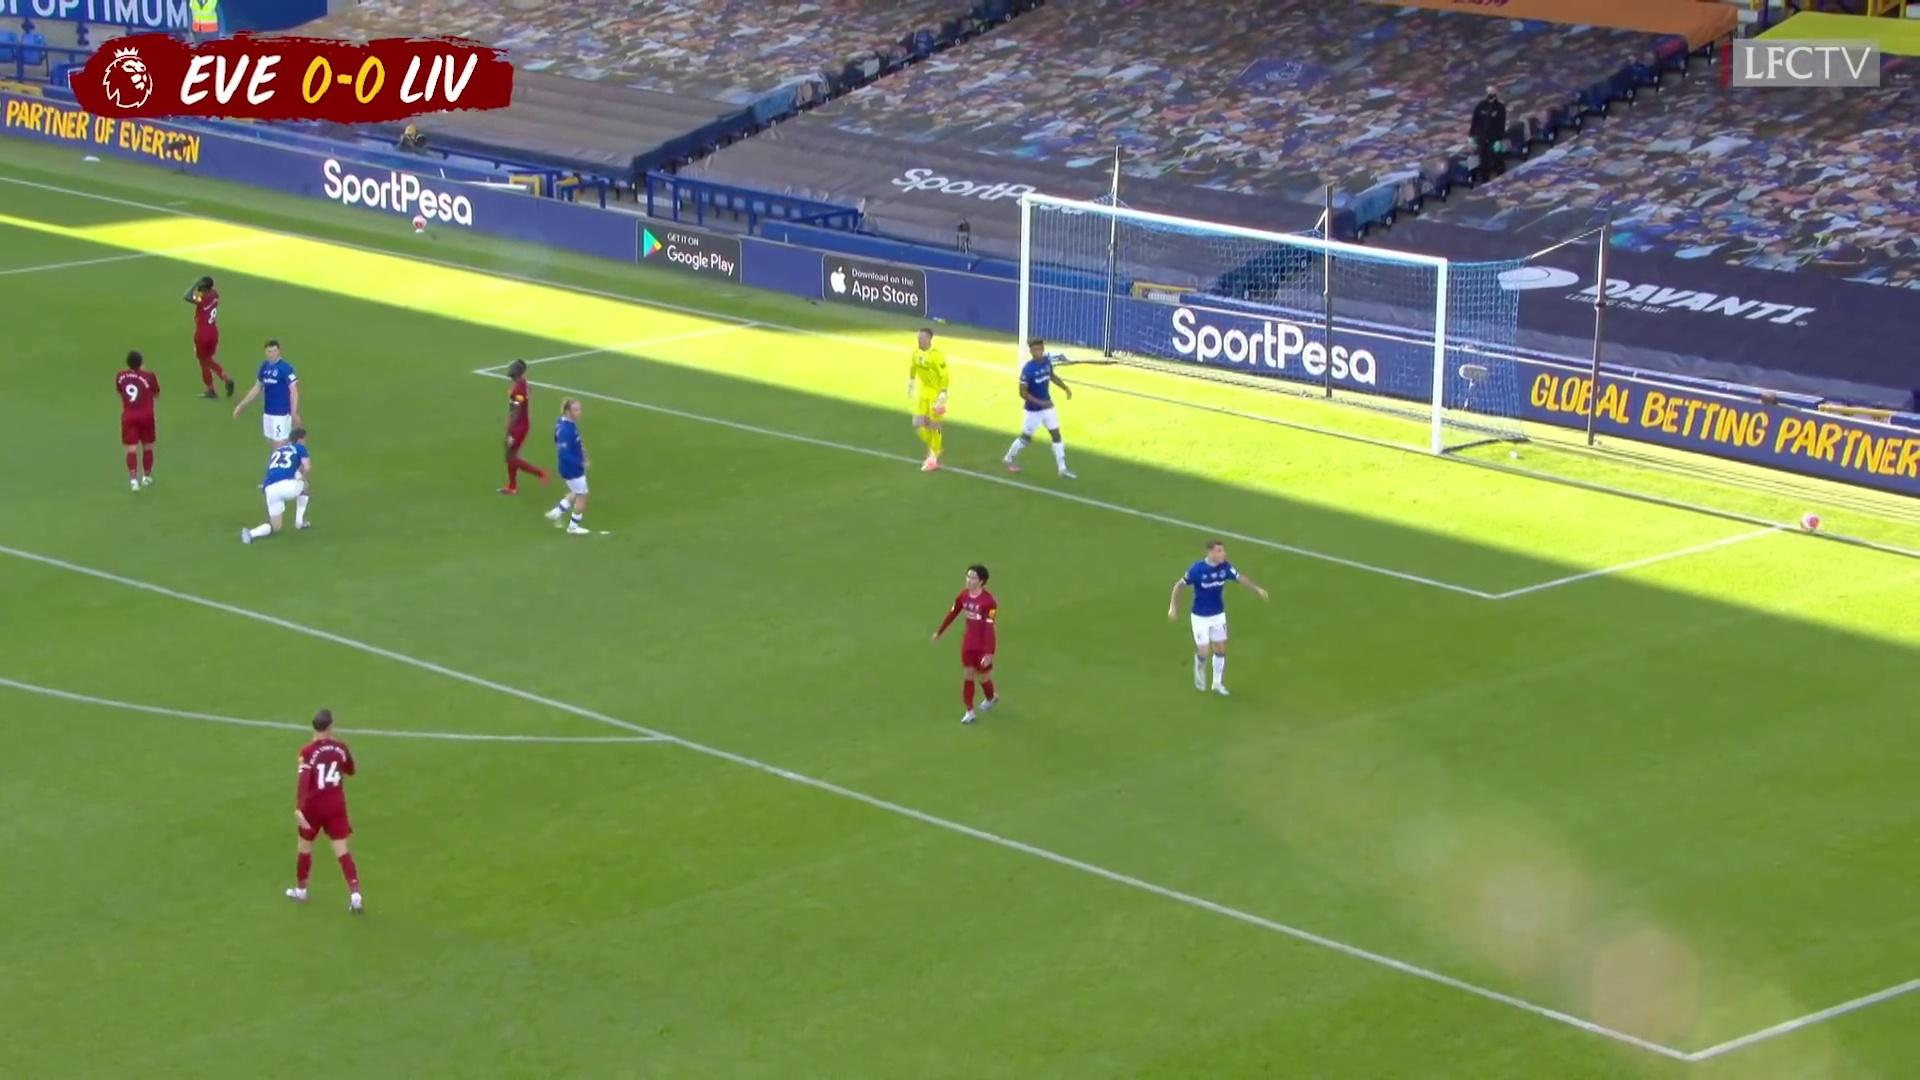ball: (1799, 512, 1818, 535)
